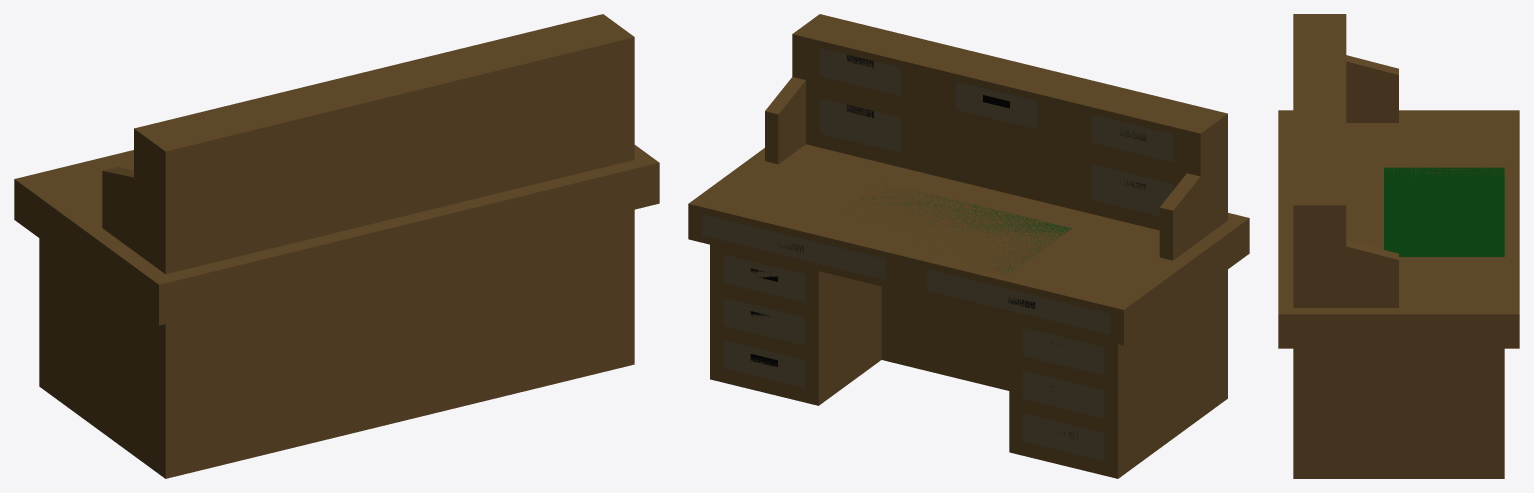
Rendered from obj_study_desk_0.obj.
3 renders of one model, left to right at view 1: azimuth 30°, elevation 25°; view 2: azimuth 150°, elevation 25°; view 3: azimuth 270°, elevation 25°, orthographic. The views are drawn at different scales.
Bounding box in the file's own units: 2 × 1.25 × 1.
